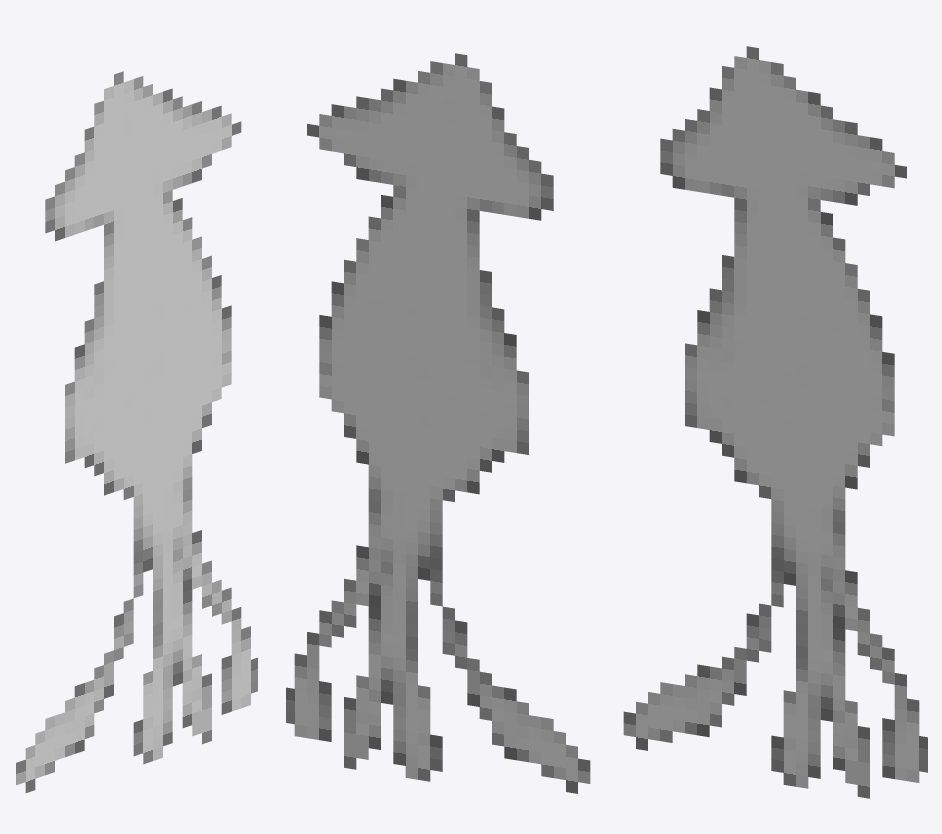
Rendered from pollution00.dae.
The picture shows the model from 3 angles, left to right: view 1: azimuth 30°, elevation 25°; view 2: azimuth 150°, elevation 25°; view 3: azimuth 330°, elevation 25°; orthographic projection. The views are drawn at different scales.
Visible parts, largest first — view 1: m0; view 2: m0; view 3: m0.
Part boxes in pixels (<box>): m0: <box>16,71,257,792</box>; m0: <box>286,53,590,793</box>; m0: <box>623,46,927,798</box>.
Size of the model in its own units: 797 by 2048 by 126.
Materials: 1 (1 with a texture image).
